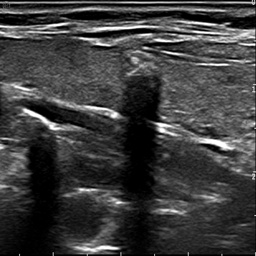mass: (118, 49, 165, 120)
